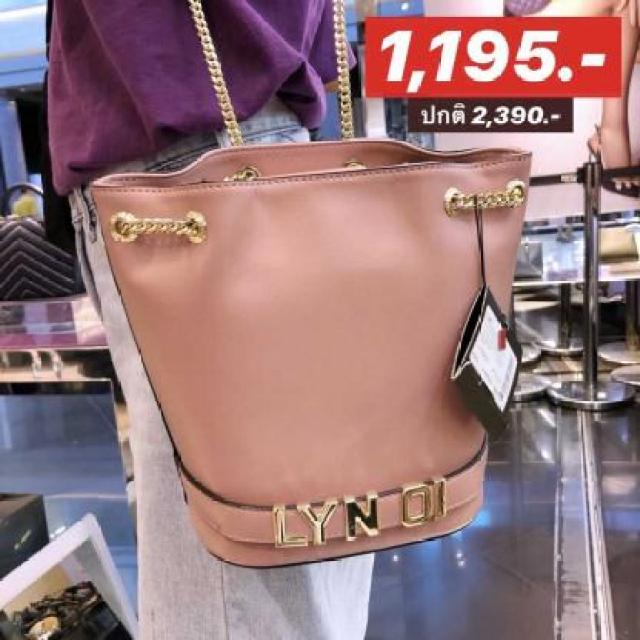Bag: (36, 47, 593, 591)
